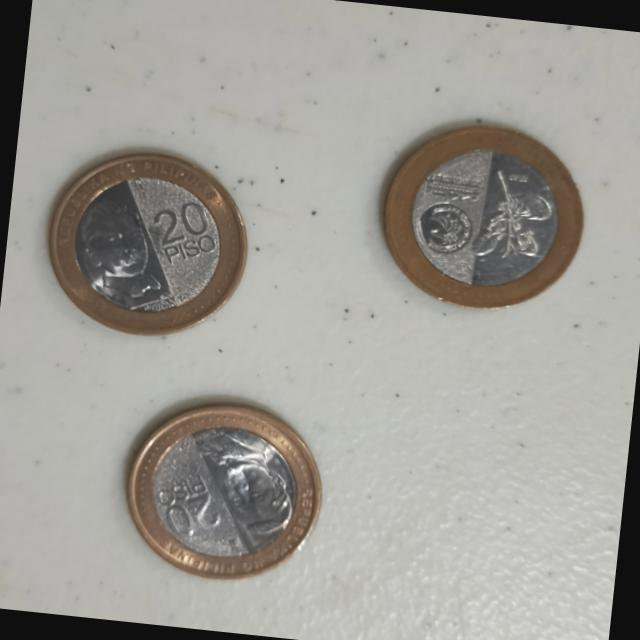20_peso: (384, 126, 581, 307), (50, 153, 244, 333), (127, 404, 320, 578)
